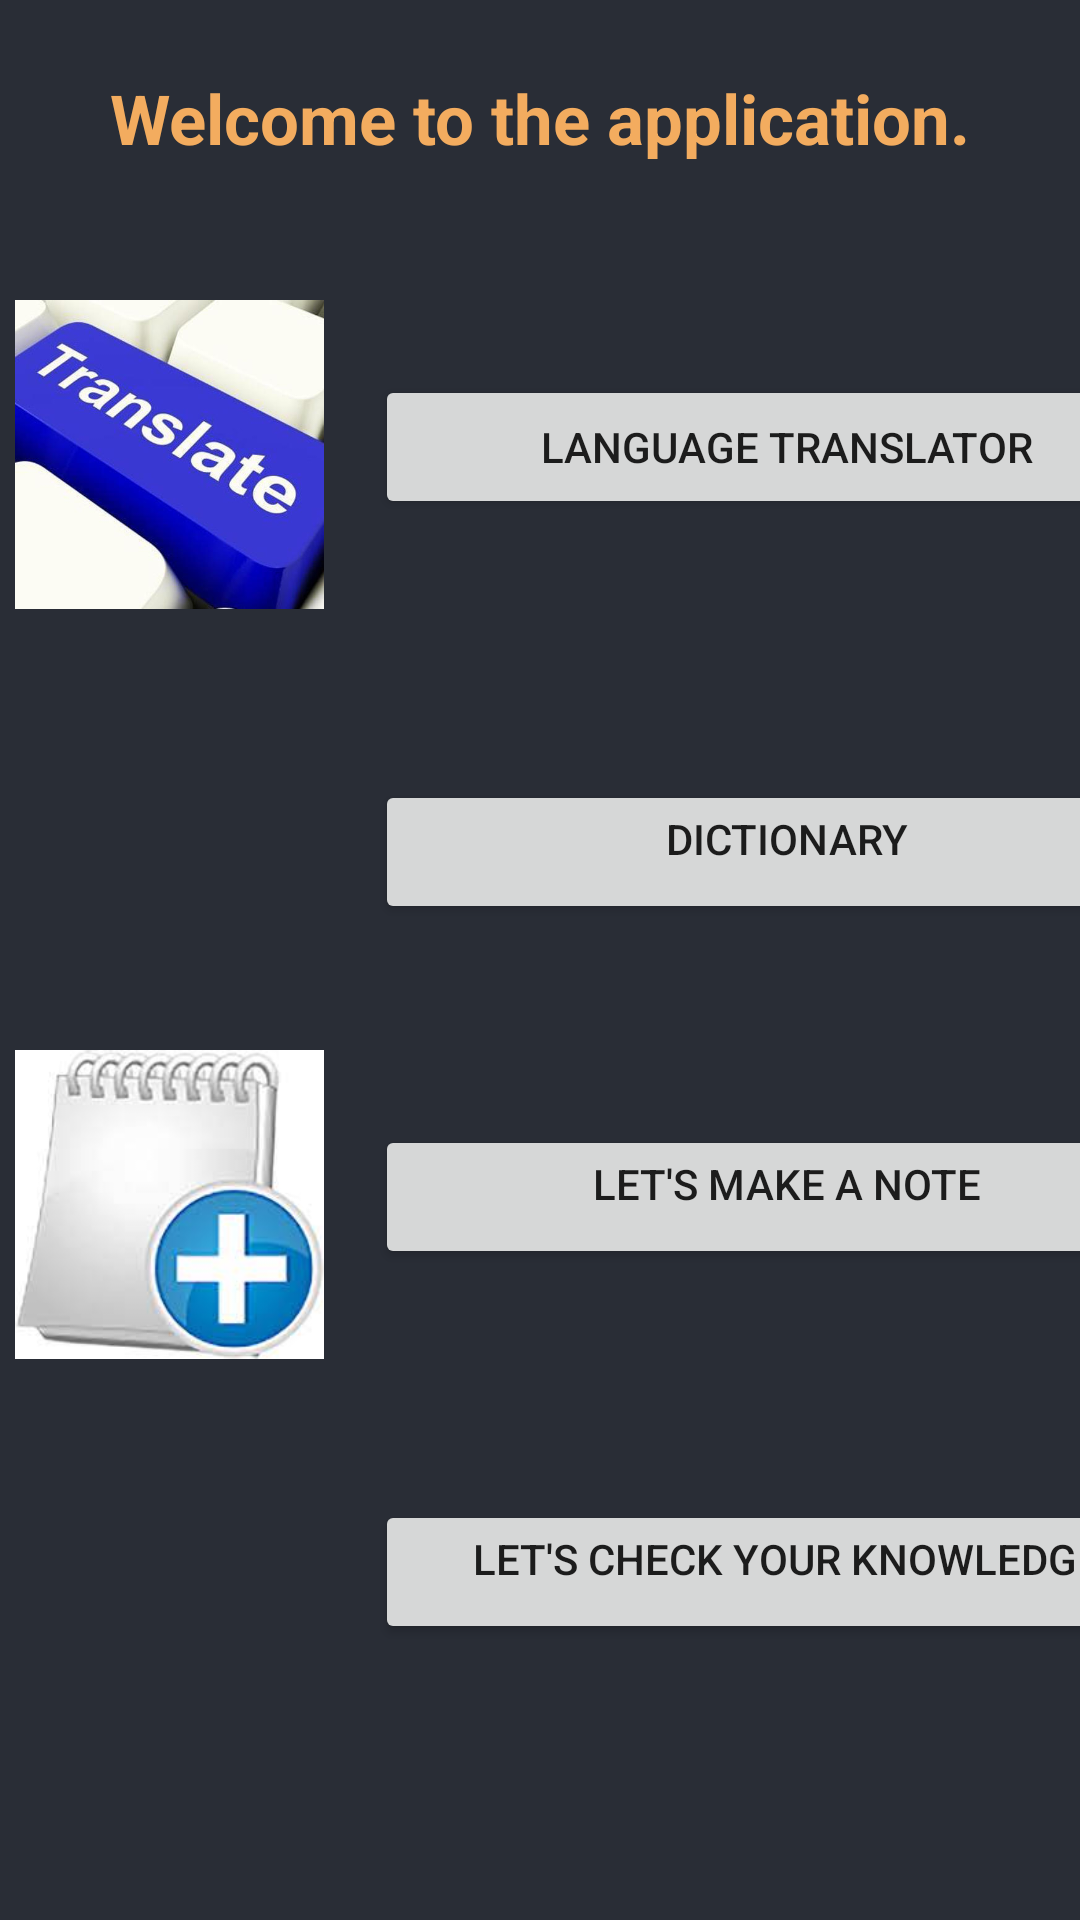

Icon bounding boxes for this 1080 x 1920 phone screenshot, format (x1, y1, x2, y2):
note add: (15, 1050, 324, 1359)
